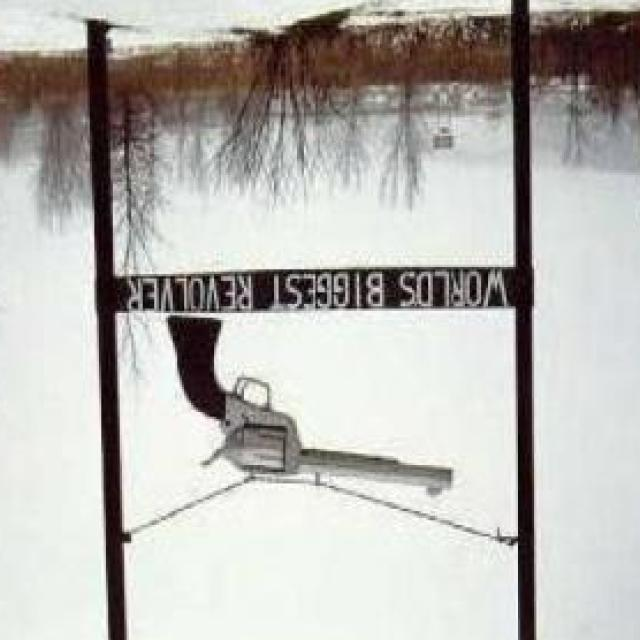pistol: (164, 322, 454, 514)
